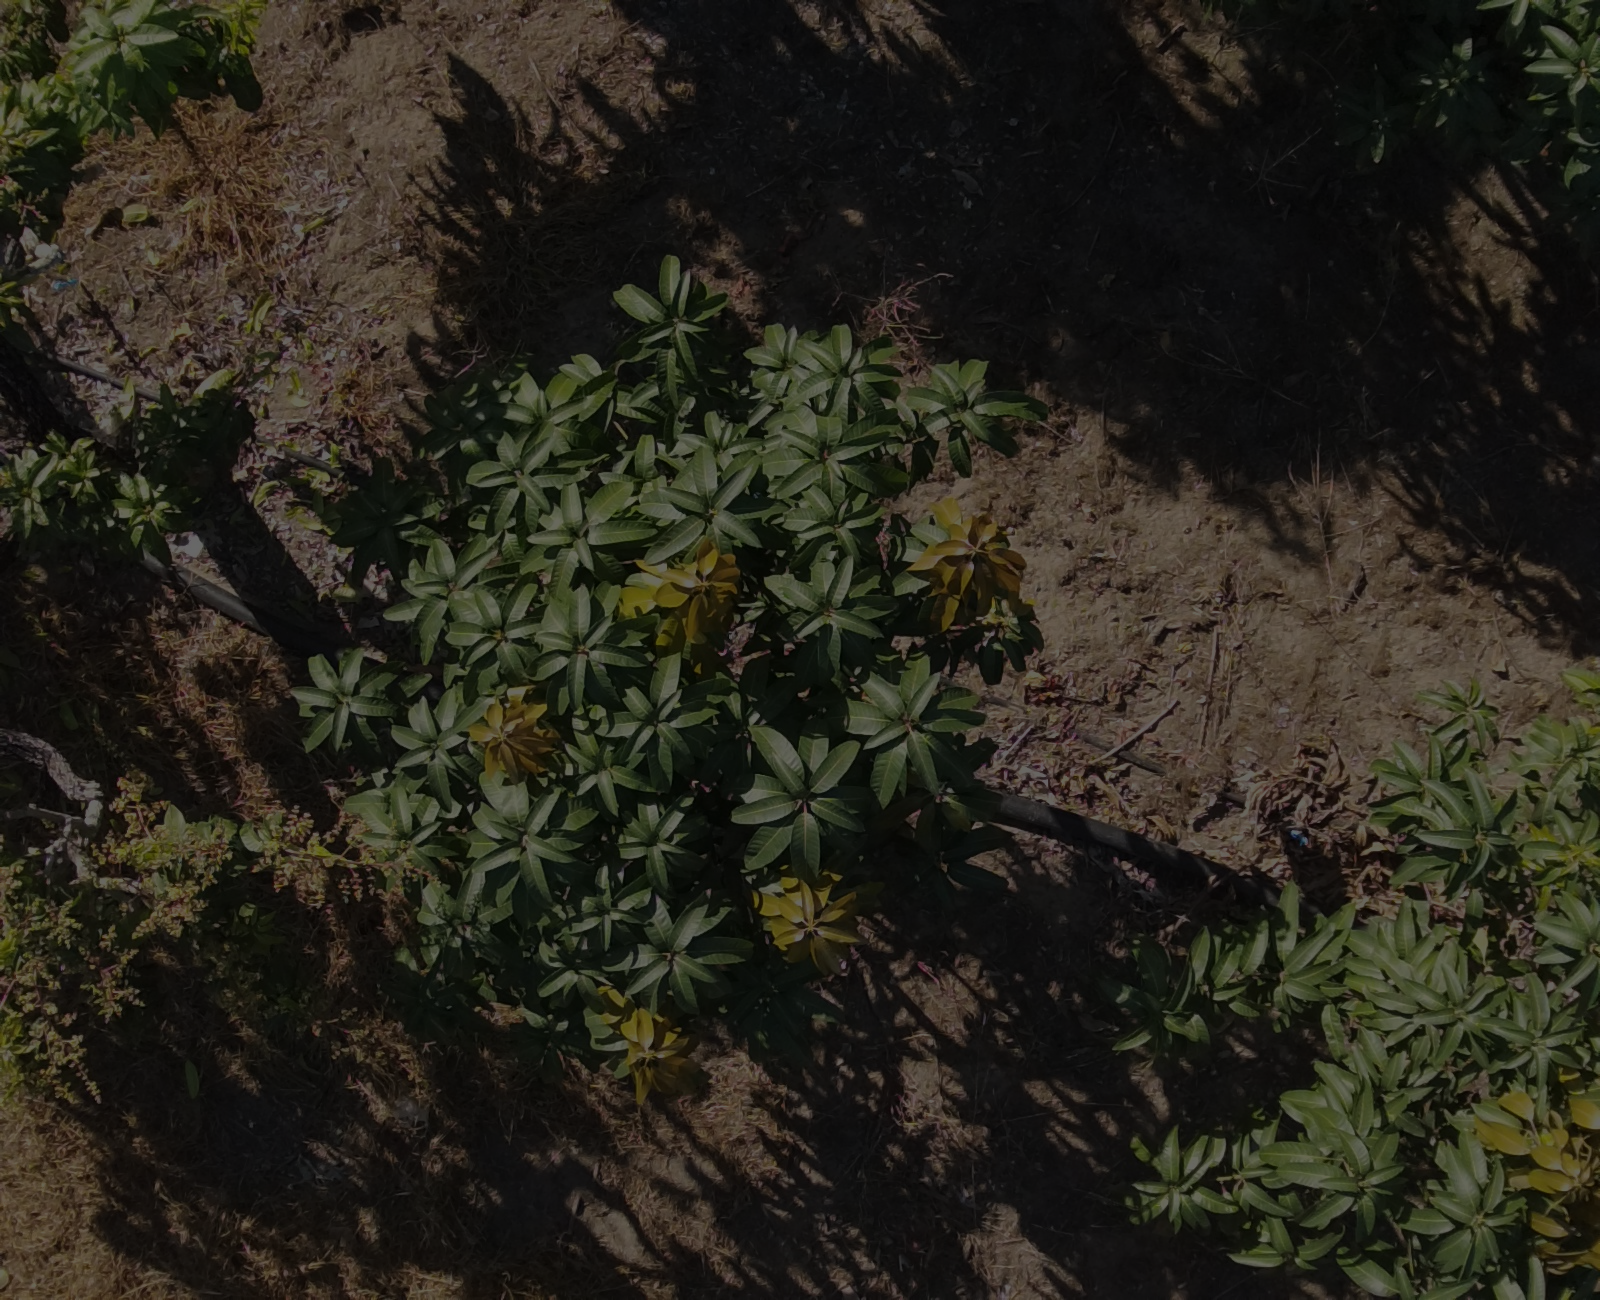flowers: (77, 779, 236, 944), (236, 813, 427, 944), (1, 858, 93, 1098), (84, 925, 139, 1020)
